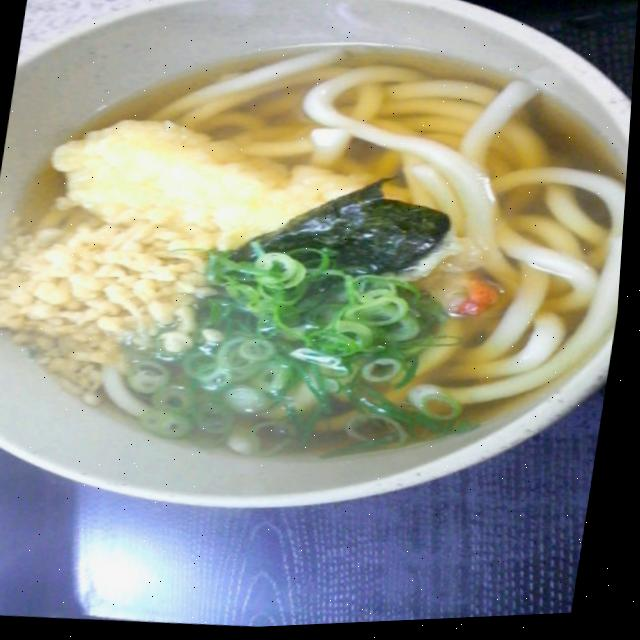面条主食: (0, 16, 638, 500)
